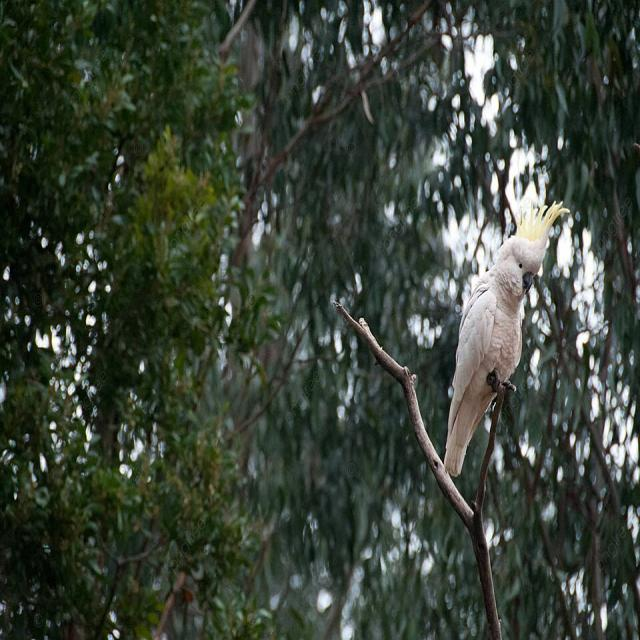Kakatua Putih: (424, 171, 581, 504)
